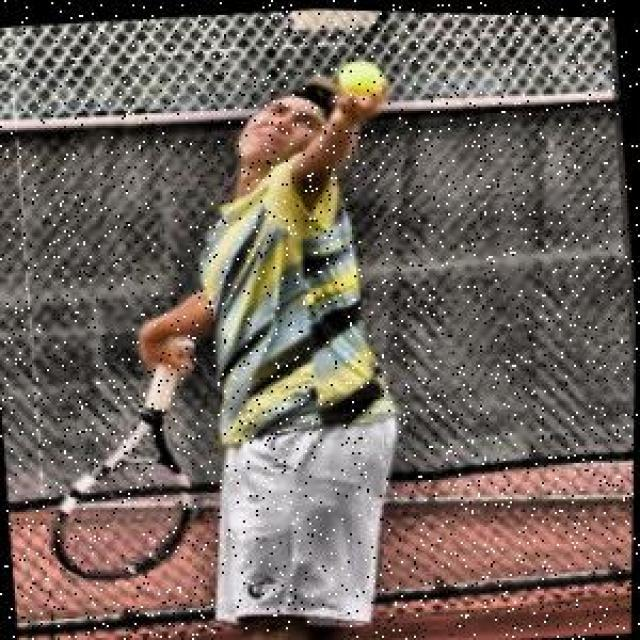tennis-ball: (336, 56, 383, 95)
